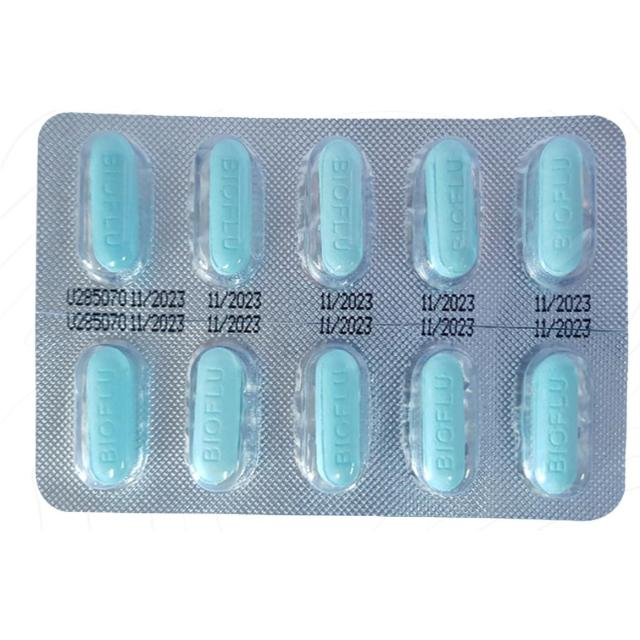blister: (28, 101, 631, 522)
